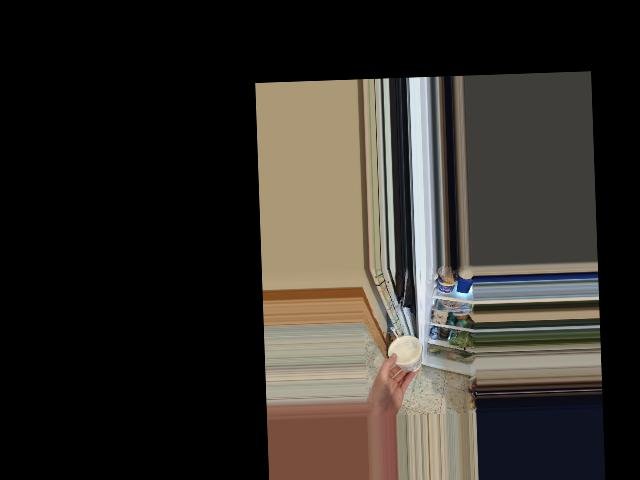cotage: (389, 331, 421, 372)
